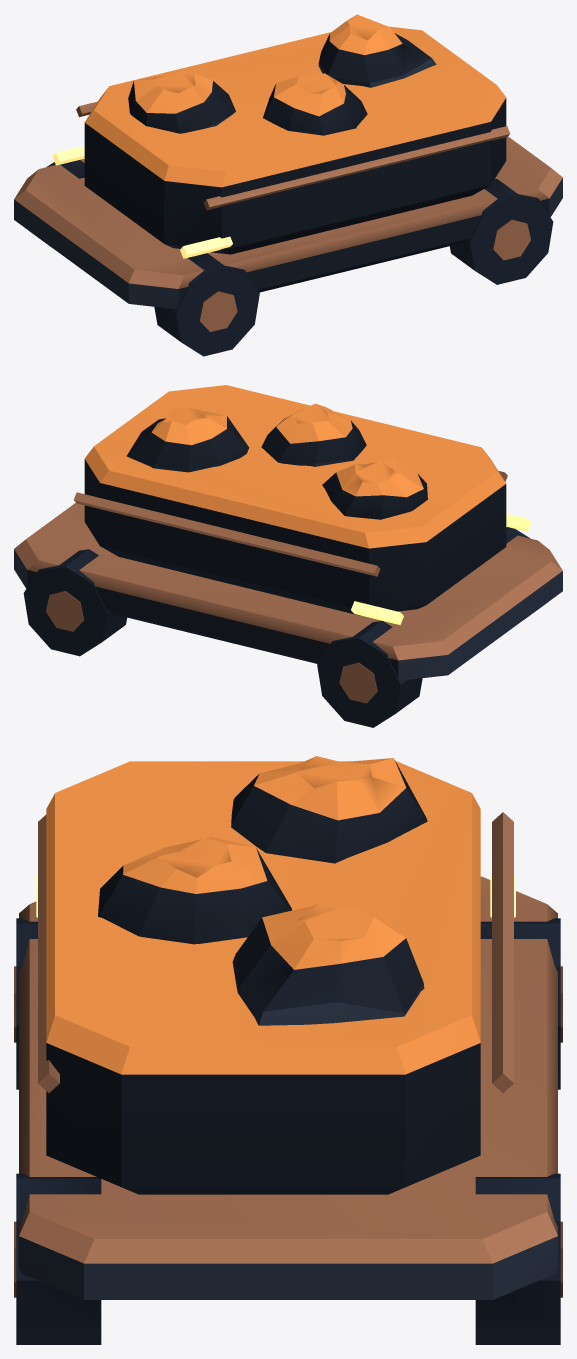
File: ambient-forge-hauler.glb
3 renders of one model, top to bottom at view 1: azimuth 30°, elevation 25°; view 2: azimuth 150°, elevation 25°; view 3: azimuth 270°, elevation 25°, orthographic. The views are drawn at different scales.
Parts seen in each view (by area): view 1: ambient-forge-hauler; view 2: ambient-forge-hauler; view 3: ambient-forge-hauler.
Part boxes in pixels (x1,y1,x2,y2): ambient-forge-hauler: [14, 14, 562, 356]; ambient-forge-hauler: [14, 385, 562, 727]; ambient-forge-hauler: [14, 756, 562, 1344].
Size of the model in its own units: 3.58 by 1.63 by 2.2.
